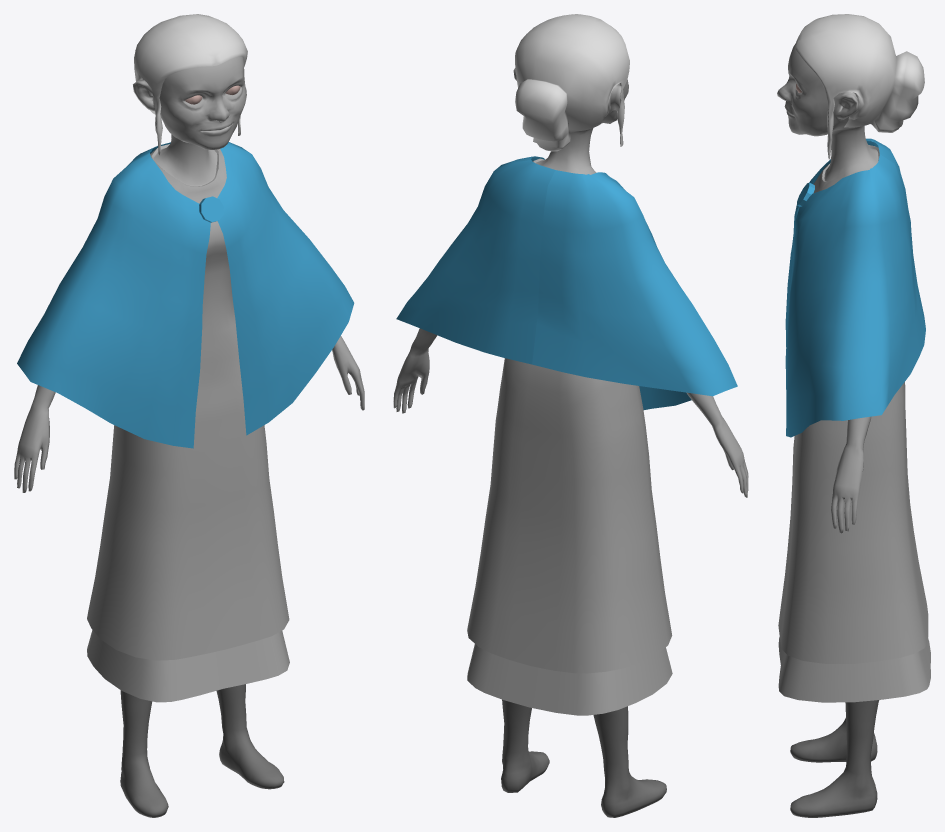
Rendered from Guide.fbx.
The picture shows the model from 3 angles, left to right: view 1: azimuth 30°, elevation 25°; view 2: azimuth 150°, elevation 25°; view 3: azimuth 270°, elevation 25°; orthographic projection.
Parts seen in each view (by area): view 1: Body_Geo, Shawl_01_Geo, Legs_Geo, Hair_Geo; view 2: Body_Geo, Shawl_01_Geo, Hair_Geo, Legs_Geo; view 3: Body_Geo, Shawl_01_Geo, Hair_Geo, Legs_Geo.
Boxes of the visible parts, <box> form: Body_Geo: <box>14,56,364,702</box>; Shawl_01_Geo: <box>17,142,354,448</box>; Legs_Geo: <box>120,684,284,817</box>; Hair_Geo: <box>134,14,247,155</box>; Body_Geo: <box>393,68,748,715</box>; Shawl_01_Geo: <box>396,156,737,409</box>; Hair_Geo: <box>515,14,629,151</box>; Legs_Geo: <box>501,699,666,817</box>; Body_Geo: <box>777,43,930,702</box>; Shawl_01_Geo: <box>785,138,925,437</box>; Hair_Geo: <box>795,14,924,159</box>; Legs_Geo: <box>790,700,879,817</box>.
Bounding box in the file's own units: 12.8 × 26.95 × 4.92.
